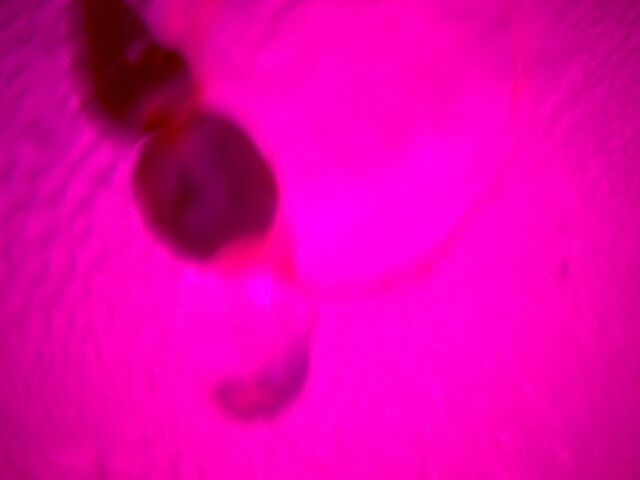seedling: (45, 1, 317, 290)
